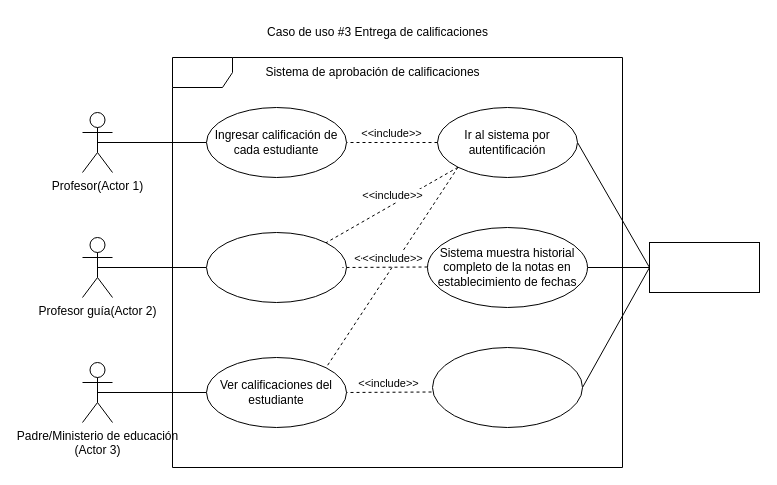
The diagram is 777 pixels wide and 485 high, and some of its shapes have lost their labels. Each missing label, with the centre of its shape:
"Sistema" goes at (704,267).
"Sistema muestra el información del profesor que da la asignatura para cada curso" goes at (507,387).
"Tomar notas del sistema" goes at (276,267).
